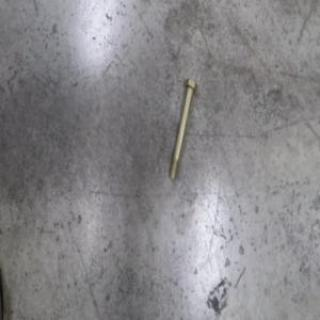Bolttrack_idkeyframe: (166, 78, 196, 184)
